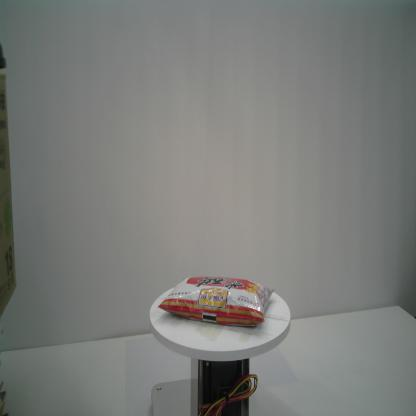Seasoner: (158, 271, 276, 330)
